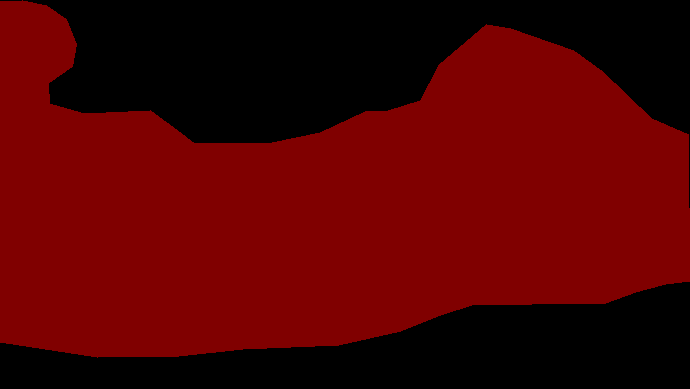fire: (0, 0, 689, 357)
